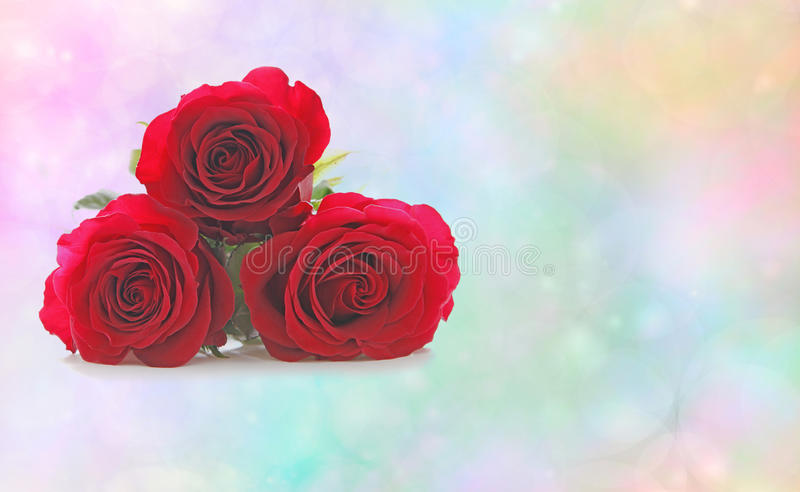RedRose: (239, 192, 464, 371), (38, 185, 238, 377), (132, 60, 337, 238)
